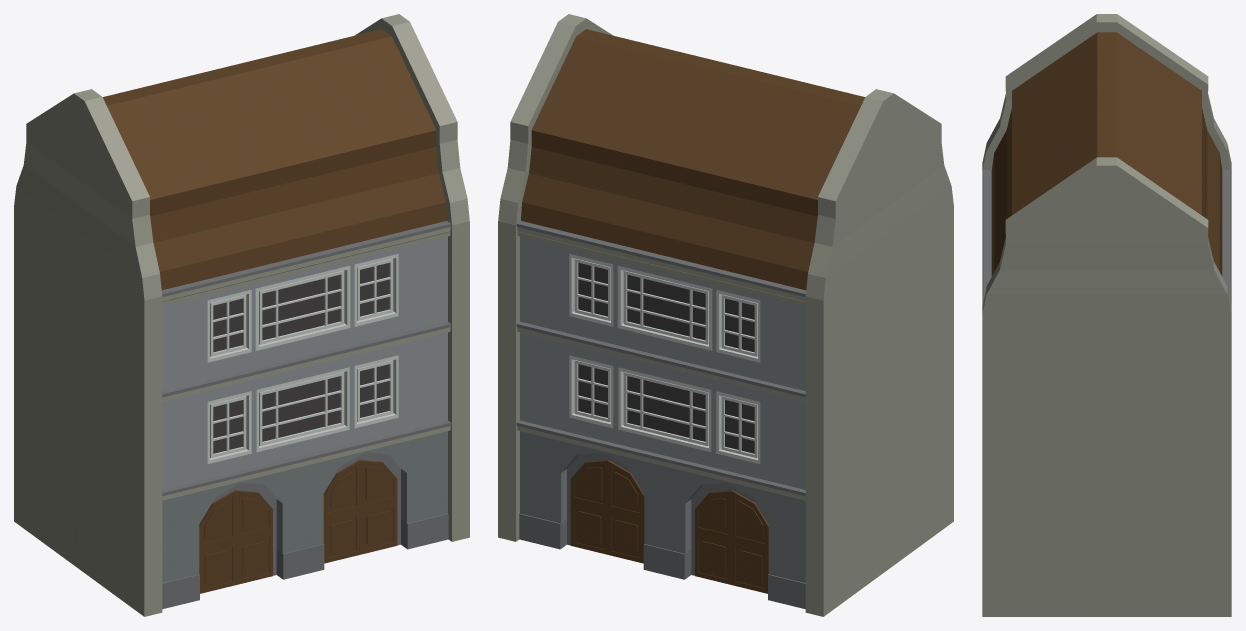
The model's file is pp-smallbld.glb.
3 renders of one model, left to right at view 1: azimuth 30°, elevation 25°; view 2: azimuth 150°, elevation 25°; view 3: azimuth 270°, elevation 25°, orthographic. The views are drawn at different scales.
Parts seen in each view (by area): view 1: Building2_Small; view 2: Building2_Small; view 3: Building2_Small.
Boxes of the visible parts, box(x1,y1,x2,y2) form: Building2_Small: box(14, 14, 469, 616); Building2_Small: box(498, 14, 953, 616); Building2_Small: box(982, 14, 1231, 616).
Bounding box in the file's own units: 3.58 × 4.97 × 2.49.
Materials: 1 (1 with a texture image).
